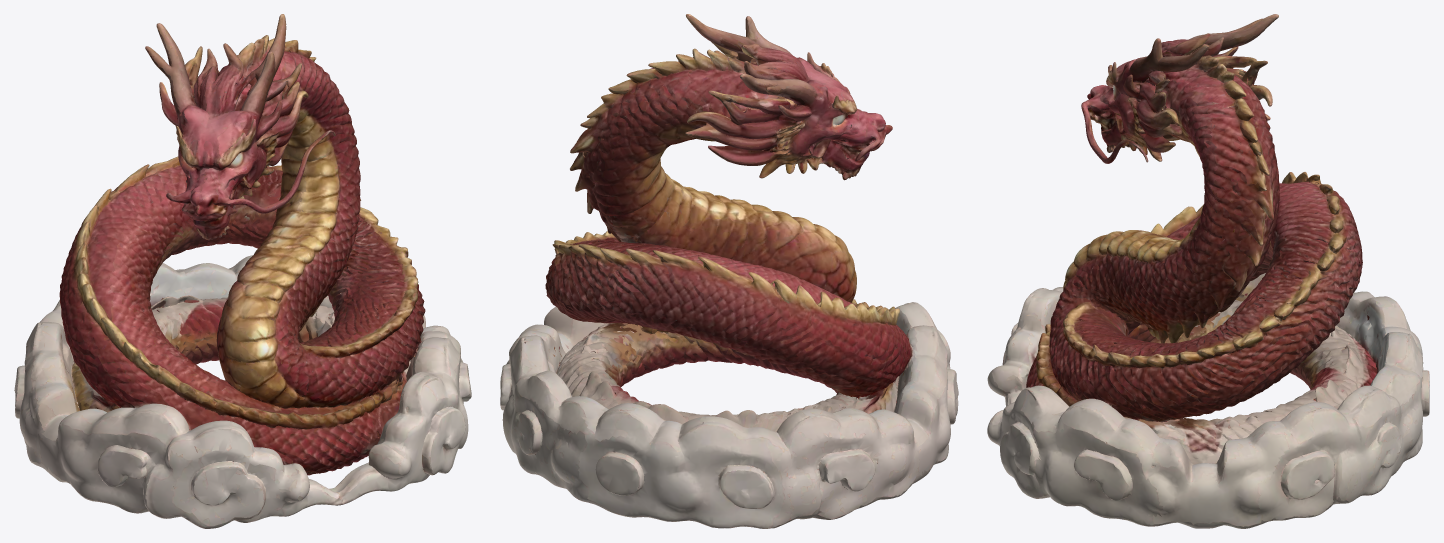
The model's file is zhulong-dragon.glb.
3 renders of one model, left to right at view 1: azimuth 30°, elevation 25°; view 2: azimuth 150°, elevation 25°; view 3: azimuth 270°, elevation 25°, orthographic.
Visible parts, largest first — view 1: geometry_0; view 2: geometry_0; view 3: geometry_0.
Boxes of the visible parts, x1,y1,x2,y2 form: geometry_0: [14, 14, 471, 528]; geometry_0: [500, 14, 958, 528]; geometry_0: [987, 14, 1429, 528].
Size of the model in its own units: 0.5205 by 0.52 by 0.5028.
Materials: 1 (1 with a texture image).
